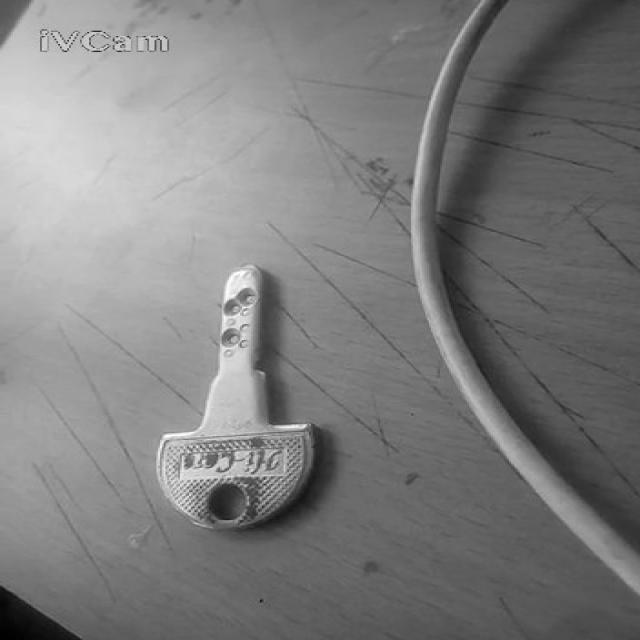key: (156, 265, 315, 530)
